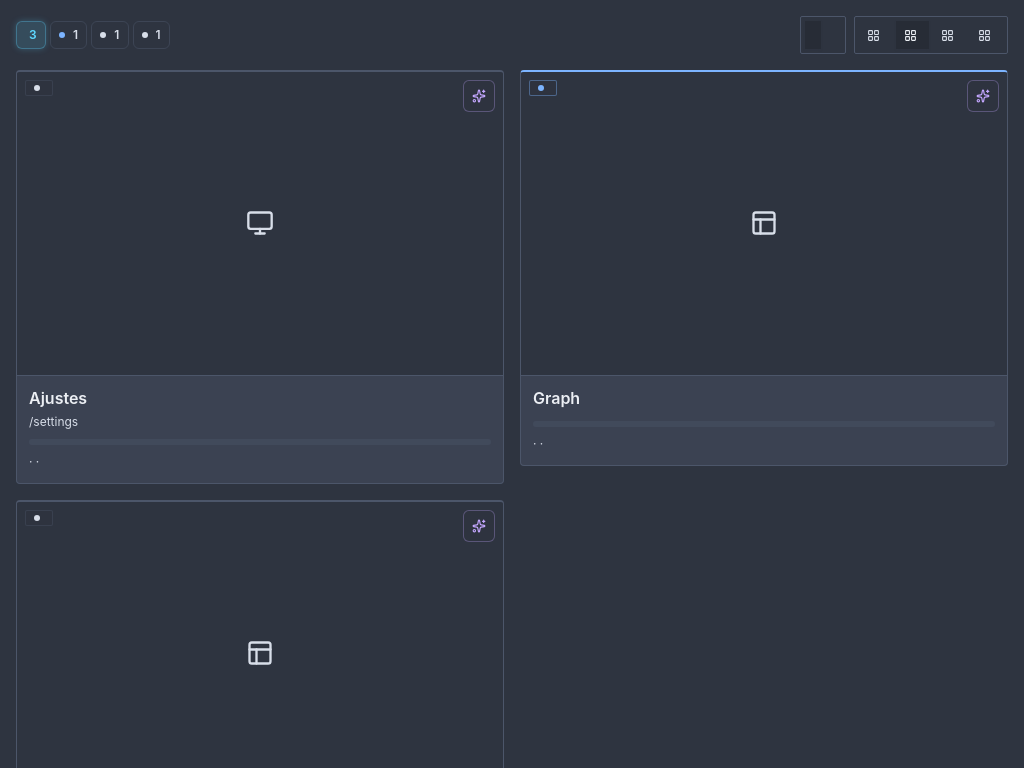
Test: ScreenCatalog › el filtro por tema deja solo esas pantallas y «Todas» las vuelve
Expected: the button with test id "screen-card-route:/settings" is shown, [16,70,504,484]
Expected: the button with test id "screen-card-view:graph" is shown, [520,70,1008,466]
// Filtrar por 'graphics'
Click the button with test id "screen-tag-filter-graphics".
click(69, 35)  # box [50,21,87,49]
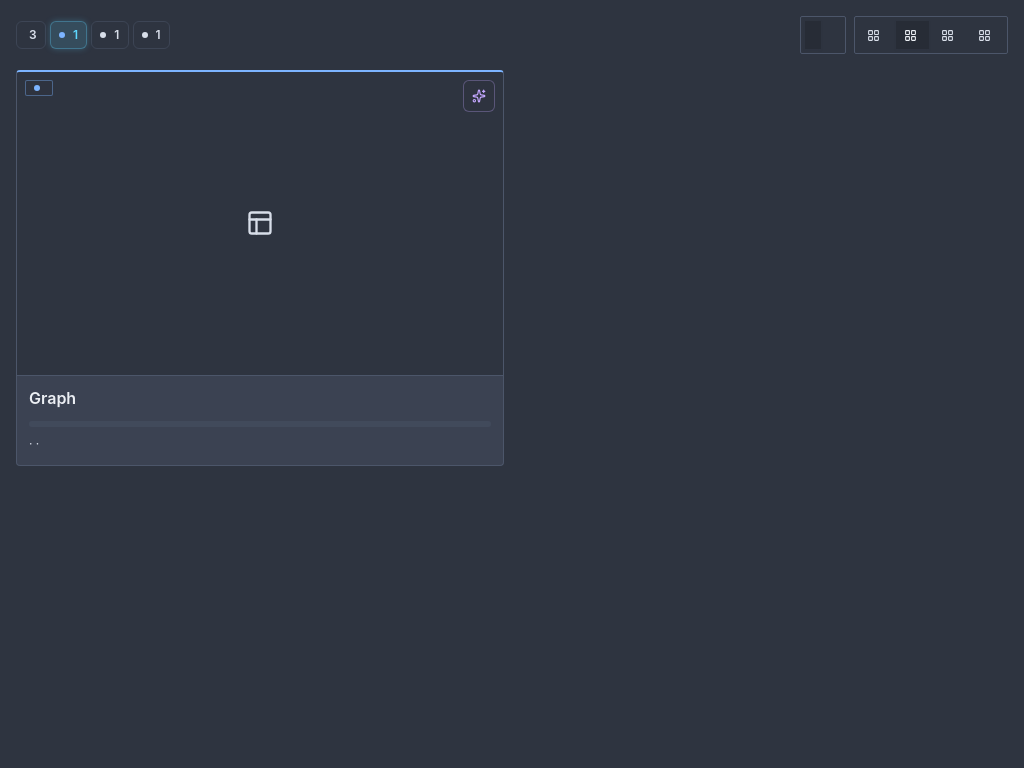
Expected: the button with test id "screen-card-view:graph" is shown, [16,70,504,466]
Now the button with test id "screen-card-route:/settings" is gone
// Tocar 'Todas' vuelve a mostrar todas
Click the button with test id "screen-tag-filter-all".
click(31, 35)  # box [16,21,46,49]
(page scrolled)
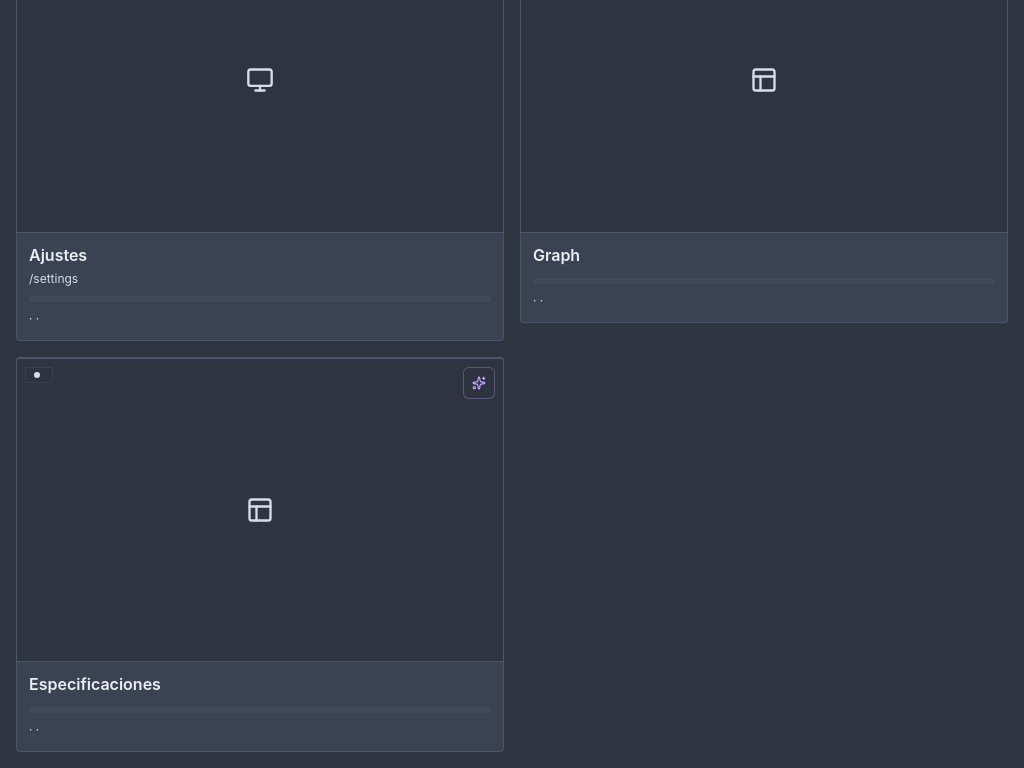
Now the button with test id "screen-card-view:sdd" is shown, box [16,356,504,752]
